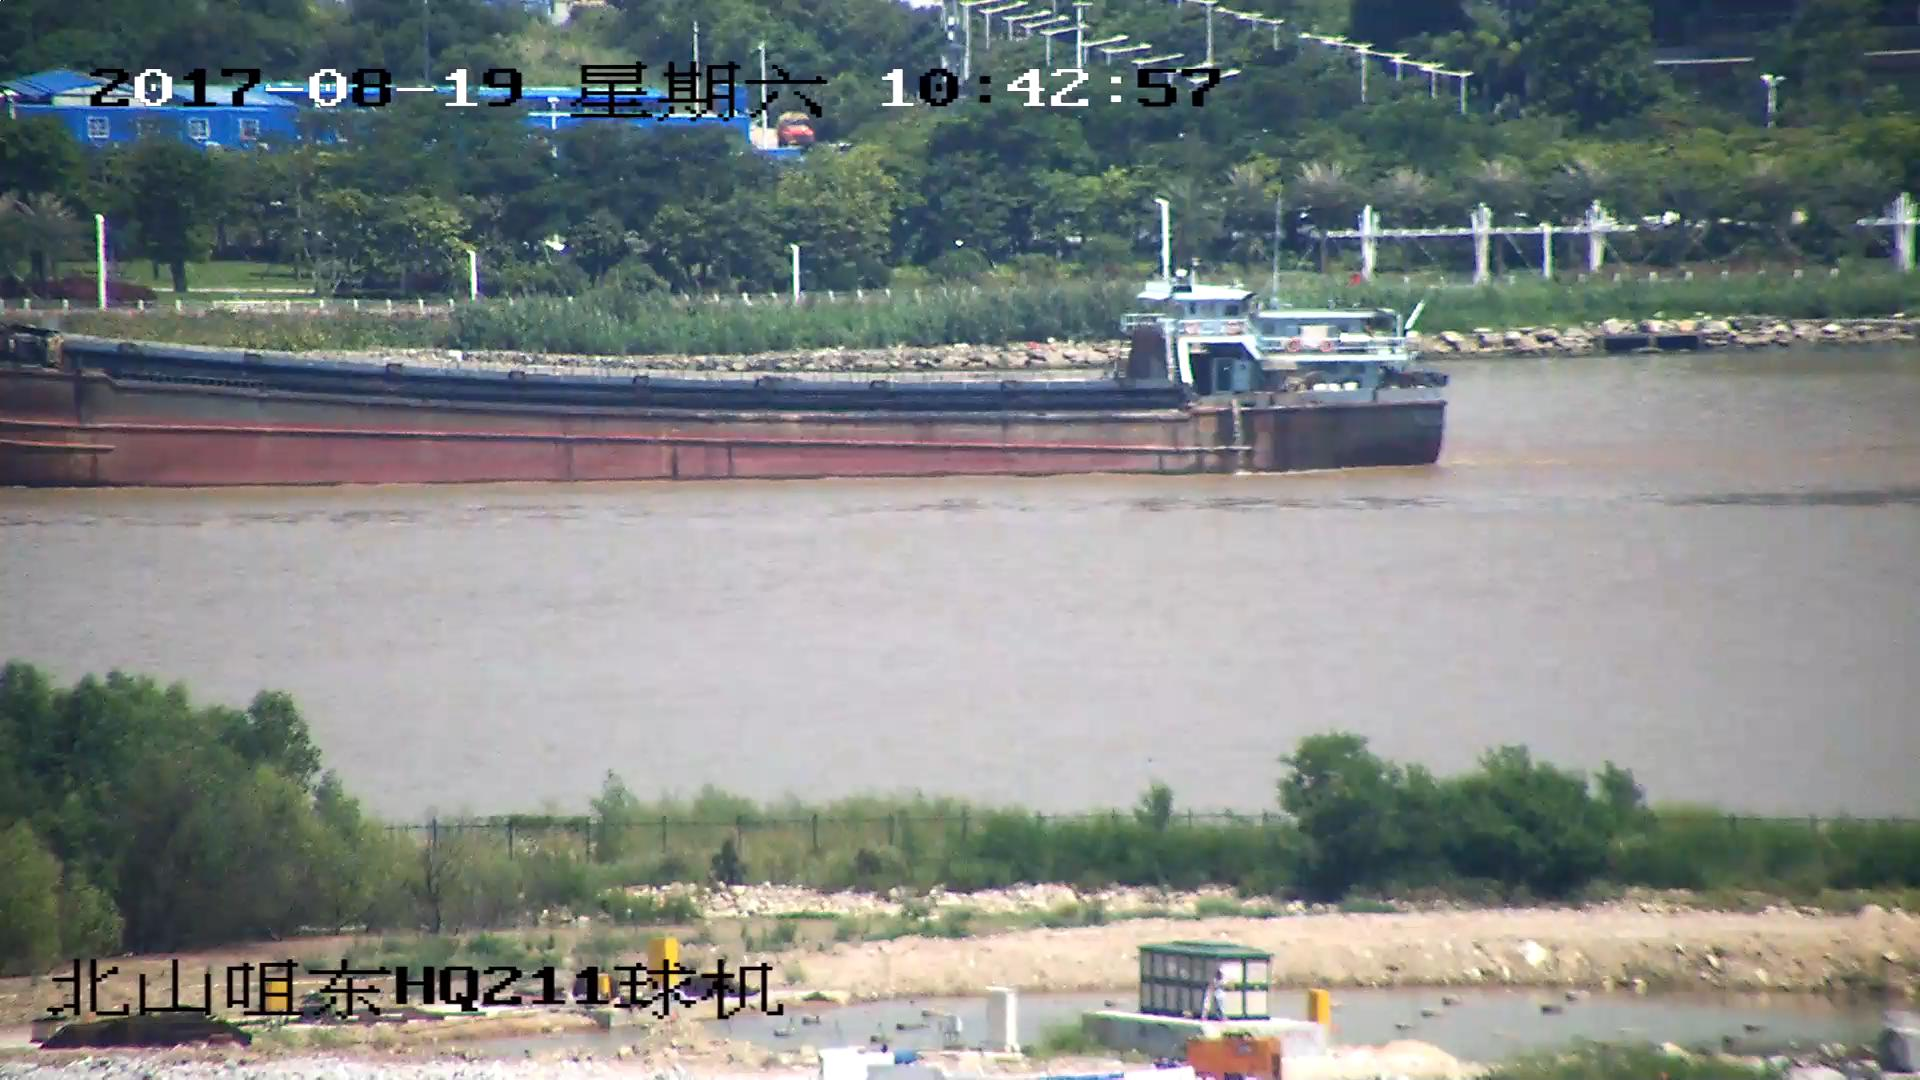bulk cargo carrier: (1, 271, 1447, 488)
